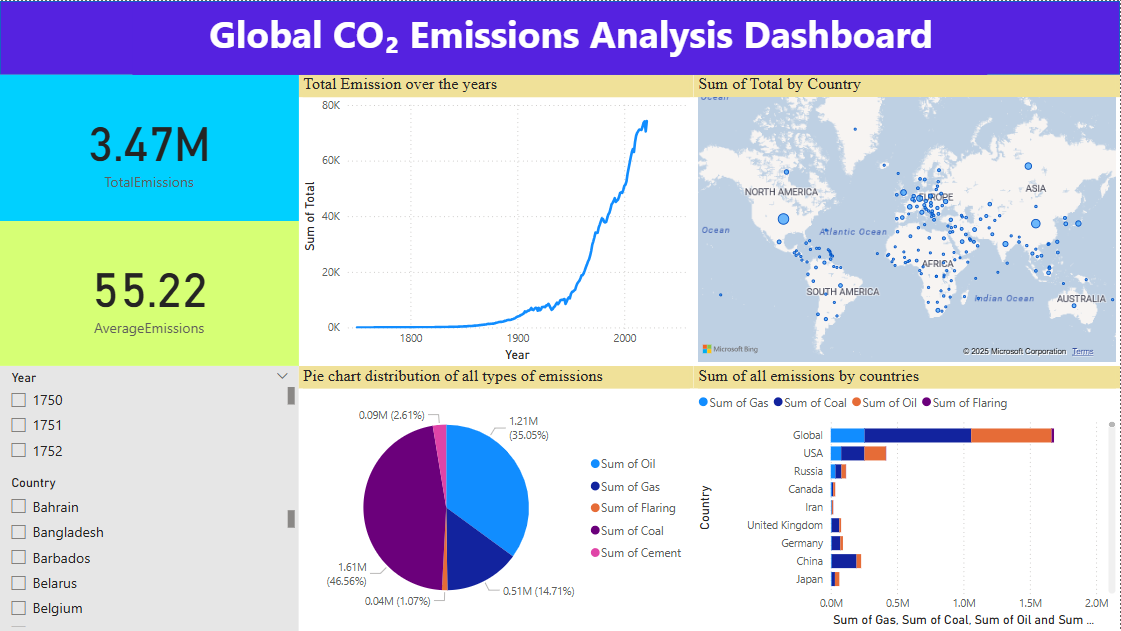

What the dashboard file says about the page in this screenshot:
{"tool":"powerbi","page":{"name":"Page 1","canvas":[1280,720],"ordinal":0},"visuals":[{"type":"lineChart","title":"Total Emission over the years","fields":{"Category":["emission_pydone.Year"],"Y":["Sum(emission_pydone.Total)"]},"box":[341.4,84.3,451.4,332.9],"z":0},{"type":"slicer","fields":{"Values":["emission_pydone.Country"]},"box":[0,537.1,341.4,182.9],"z":1000},{"type":"barChart","title":"Sum of all emissions by countries","fields":{"Category":["emission_pydone.Country"],"Y":["Sum(emission_pydone.Gas)","Sum(emission_pydone.Coal)","Sum(emission_pydone.Oil)","Sum(emission_pydone.Flaring)"]},"box":[792.9,417.1,487.1,302.9],"z":2000},{"type":"slicer","fields":{"Values":["emission_pydone.Year"]},"box":[0,417.1,341.4,120],"z":3000},{"type":"map","fields":{"Category":["emission_pydone.Country"],"Size":["Sum(emission_pydone.Total)"]},"box":[792.9,84.3,487.1,332.9],"z":4000},{"type":"pieChart","title":"Pie chart distribution of all types of emissions","fields":{"Y":["Sum(emission_pydone.Oil)","Sum(emission_pydone.Gas)","Sum(emission_pydone.Flaring)","Sum(emission_pydone.Coal)","Sum(emission_pydone.Cement)"]},"box":[341.4,417.1,451.4,302.9],"z":5000},{"type":"card","fields":{"Values":["emission_pydone.TotalEmissions"]},"box":[0,84.3,341.4,167.1],"z":6000},{"type":"card","fields":{"Values":["emission_pydone.AverageEmissions"]},"box":[0,251.4,341.4,165.7],"z":7000},{"type":"shape","box":[0,0,1280,84.3],"z":8000},{"type":"textbox","box":[151.4,2.9,977.1,81.4],"z":9000}]}

Visuals, with their boxes in screenshot pixels (x1, y1, x2, y2), scaled from the page's 1280x720 canvas onto the 1121x631 screenshot:
"Total Emission over the years" lineChart: rect(299, 74, 694, 366)
slicer - emission_pydone.Country: rect(0, 471, 299, 630)
"Sum of all emissions by countries" barChart: rect(694, 366, 1120, 630)
slicer - emission_pydone.Year: rect(0, 366, 299, 471)
map - emission_pydone.Country x Sum(emission_pydone.Total): rect(694, 74, 1120, 366)
"Pie chart distribution of all types of emissions" pieChart: rect(299, 366, 694, 630)
card - emission_pydone.TotalEmissions: rect(0, 74, 299, 220)
card - emission_pydone.AverageEmissions: rect(0, 220, 299, 366)
shape: rect(0, 0, 1120, 74)
textbox: rect(133, 3, 988, 74)
